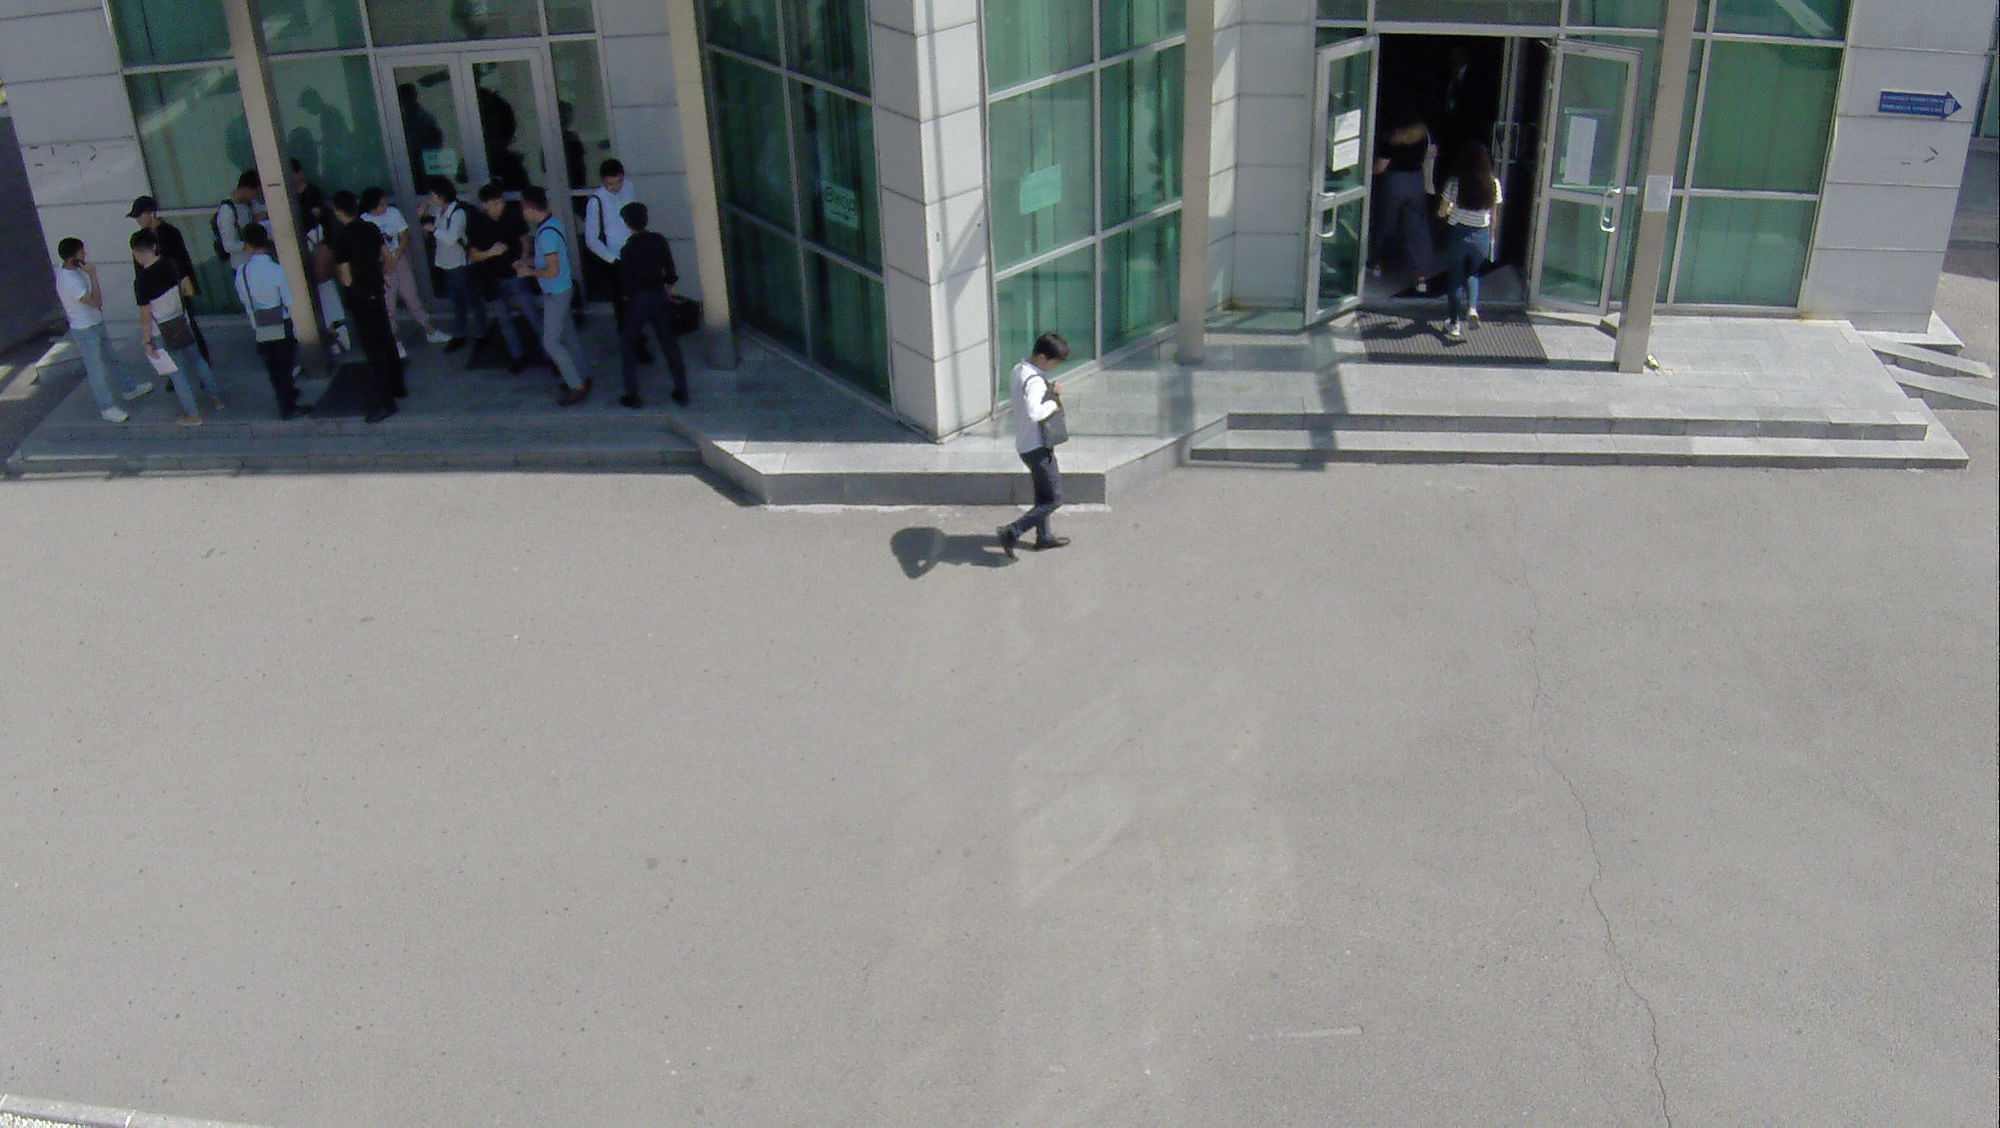person: (989, 326, 1087, 578), (326, 186, 407, 432), (605, 194, 695, 413), (126, 229, 225, 428), (52, 230, 142, 428), (230, 220, 308, 432), (470, 177, 549, 379), (522, 184, 593, 406), (1362, 89, 1437, 291), (426, 179, 501, 354), (366, 187, 441, 354), (1441, 149, 1495, 337), (129, 179, 198, 311), (584, 154, 638, 268)
